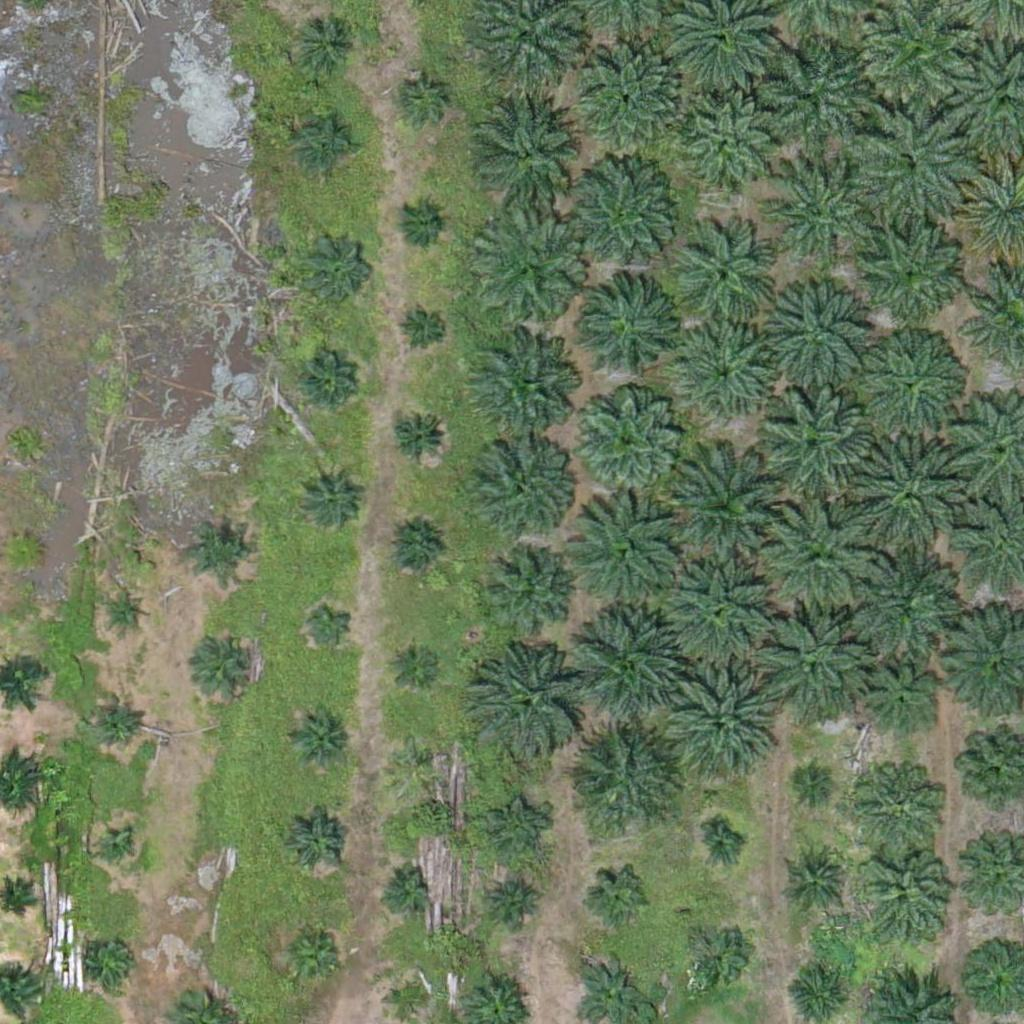Kelapa_Sawit: (667, 446, 792, 572), (465, 640, 590, 766), (662, 554, 775, 668), (572, 499, 685, 613), (570, 384, 683, 498), (474, 216, 587, 330), (853, 439, 966, 552), (839, 540, 952, 653), (660, 663, 773, 776), (573, 605, 686, 718), (564, 720, 677, 833), (472, 92, 585, 205), (755, 40, 868, 153), (855, 111, 968, 224), (851, 216, 964, 329), (564, 161, 677, 274), (753, 600, 865, 714), (467, 335, 579, 449), (764, 498, 876, 611), (763, 156, 875, 269), (759, 388, 871, 501), (582, 44, 682, 145), (679, 98, 779, 199), (861, 336, 961, 437), (768, 281, 868, 382), (676, 230, 776, 331), (473, 433, 573, 534), (677, 323, 777, 423), (581, 277, 681, 377), (853, 761, 941, 849), (861, 855, 949, 943), (483, 550, 571, 638), (859, 664, 934, 740), (301, 229, 376, 304), (199, 633, 262, 696), (188, 517, 251, 580), (297, 356, 360, 419), (286, 705, 349, 768), (286, 810, 349, 873), (682, 924, 745, 987), (279, 924, 342, 987), (387, 406, 450, 469), (297, 16, 359, 79), (296, 113, 358, 176), (298, 467, 360, 530), (486, 797, 548, 860), (590, 866, 652, 929), (384, 518, 446, 581), (399, 73, 449, 124), (492, 875, 542, 926), (390, 635, 440, 686), (389, 732, 439, 783), (379, 861, 429, 912), (305, 597, 355, 648), (395, 197, 445, 248), (89, 936, 139, 986), (790, 854, 840, 904), (91, 695, 141, 745), (399, 305, 449, 355), (798, 765, 836, 803), (108, 593, 146, 631), (98, 831, 136, 869), (5, 533, 43, 571), (703, 827, 740, 865)
